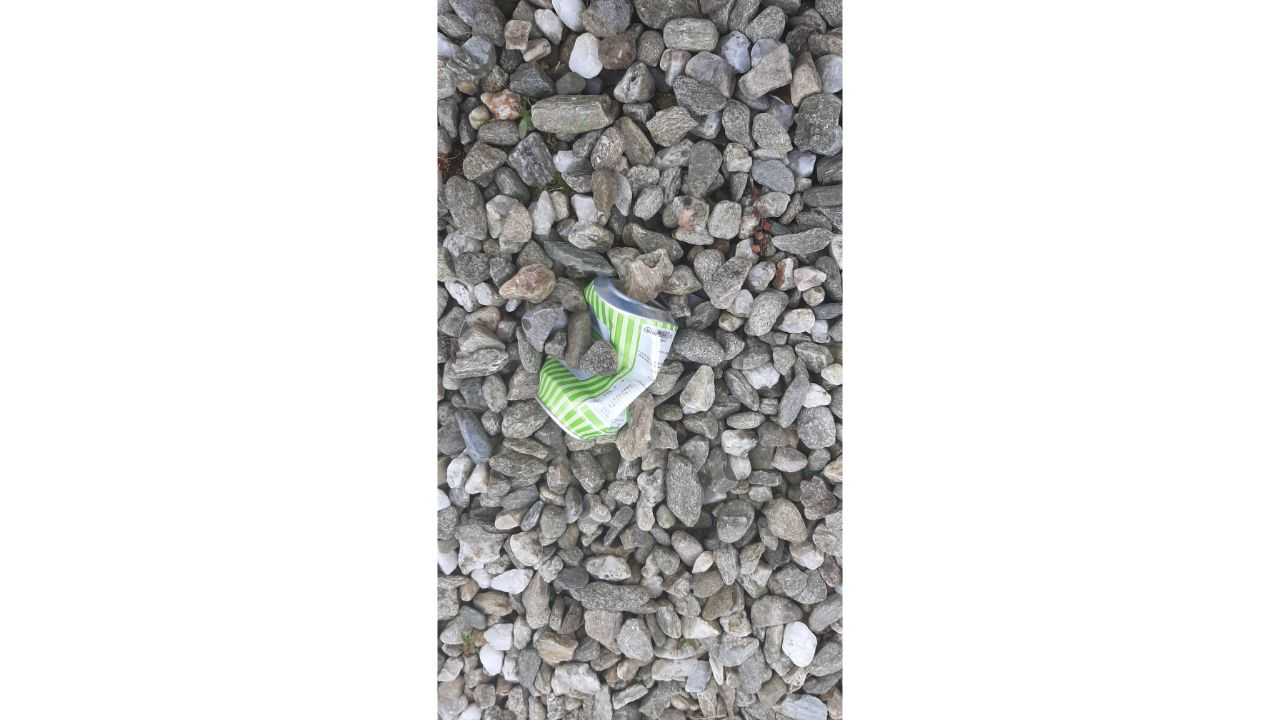Can: (532, 271, 685, 450)
